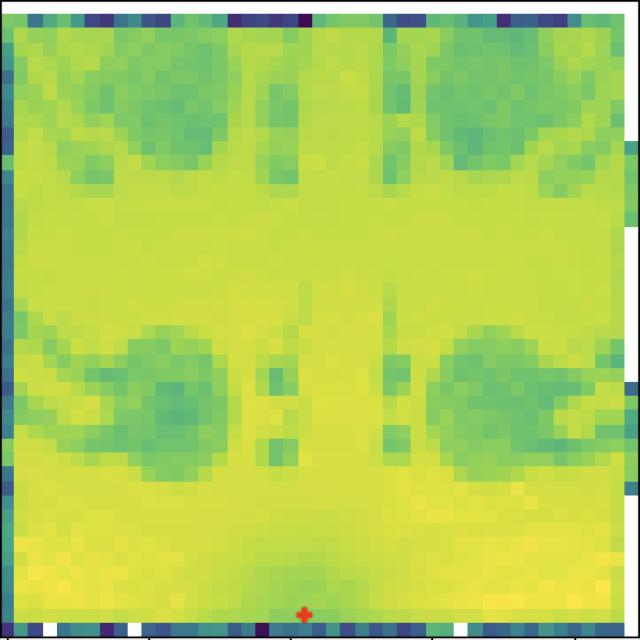Concrete: (424, 31, 595, 180)
Glass: (92, 29, 246, 180)
Metal: (426, 313, 599, 490)
Wood: (67, 317, 239, 484)
